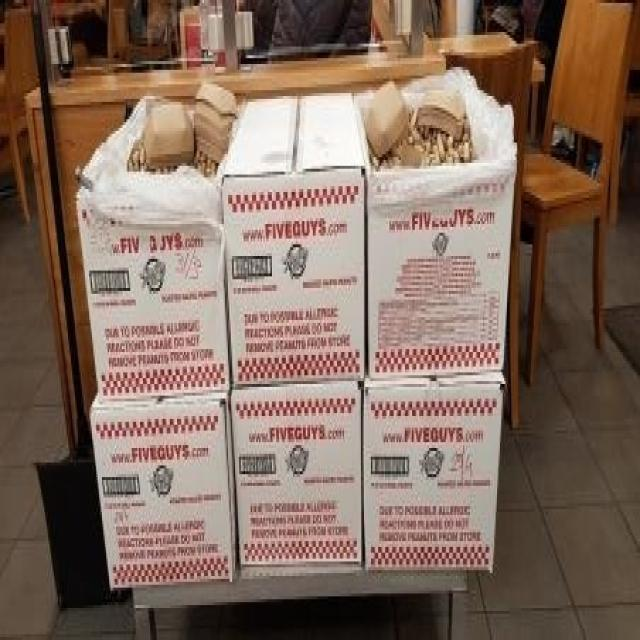box: (222, 93, 365, 387), (76, 189, 229, 399), (367, 163, 515, 378), (91, 390, 238, 591), (362, 369, 505, 570), (231, 381, 362, 567)
